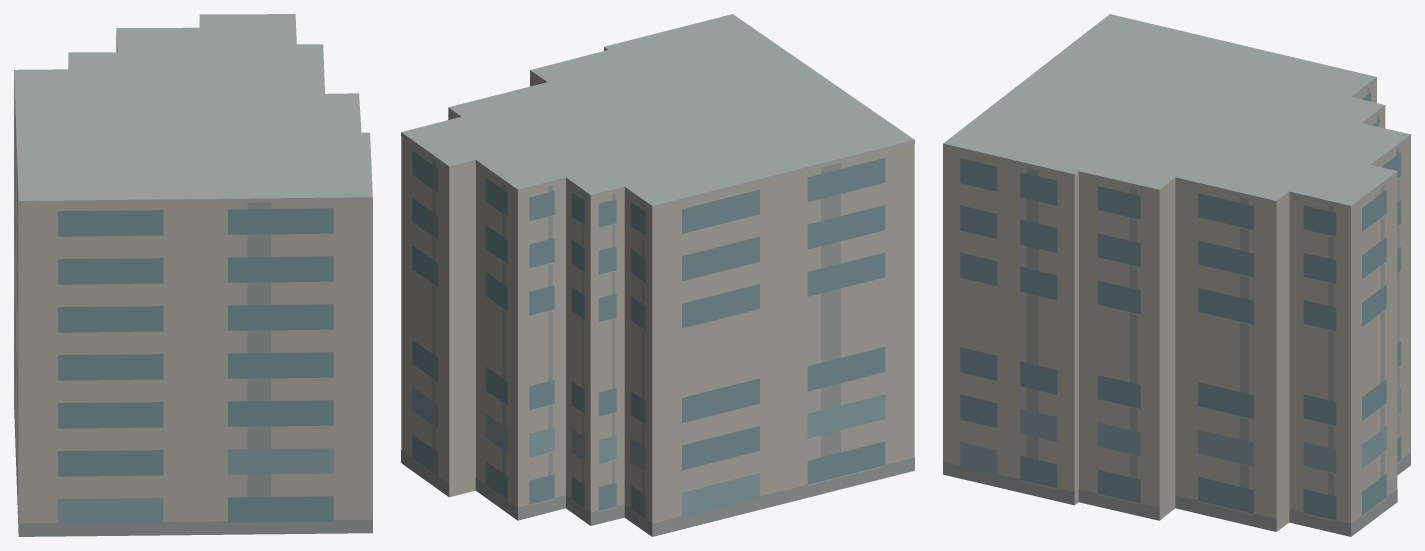
File: survey-upis-32458842.glb
3 views of the same model, side by side, from view 1: azimuth 30°, elevation 25°; view 2: azimuth 150°, elevation 25°; view 3: azimuth 270°, elevation 25° (orthographic).
Visible parts, largest first — view 1: survey-upis-32458842.tmp; view 2: survey-upis-32458842.tmp; view 3: survey-upis-32458842.tmp.
Boxes of the visible parts, x1,y1,x2,y2 form: survey-upis-32458842.tmp: (14,14,372,536); survey-upis-32458842.tmp: (401,14,914,536); survey-upis-32458842.tmp: (943,14,1410,536).
Bounding box in the file's own units: 23.52 × 18.91 × 24.23.
